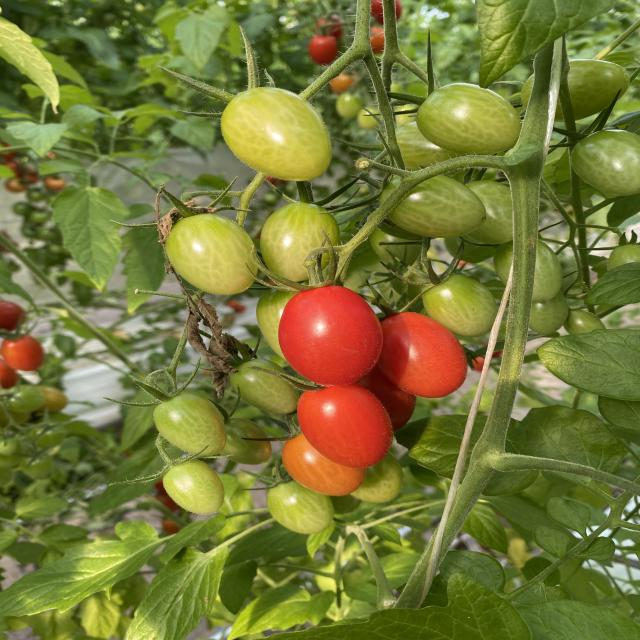c-half-riped: (282, 433, 367, 496)
c-riped: (278, 285, 384, 387), (298, 383, 396, 468), (375, 312, 469, 398), (354, 366, 417, 430)
c-unriped: (220, 86, 333, 181), (164, 213, 260, 295), (378, 169, 487, 238), (416, 84, 522, 154), (518, 58, 632, 123), (259, 200, 340, 283), (384, 120, 477, 177), (421, 274, 499, 338), (568, 128, 640, 197), (154, 391, 227, 456), (255, 282, 316, 359), (492, 237, 563, 302), (227, 358, 300, 414), (266, 478, 335, 535), (162, 456, 226, 516), (369, 217, 430, 273), (463, 180, 513, 247), (350, 448, 406, 502), (218, 417, 272, 465), (530, 288, 570, 337), (443, 234, 497, 263), (565, 309, 606, 334), (606, 244, 640, 270)
